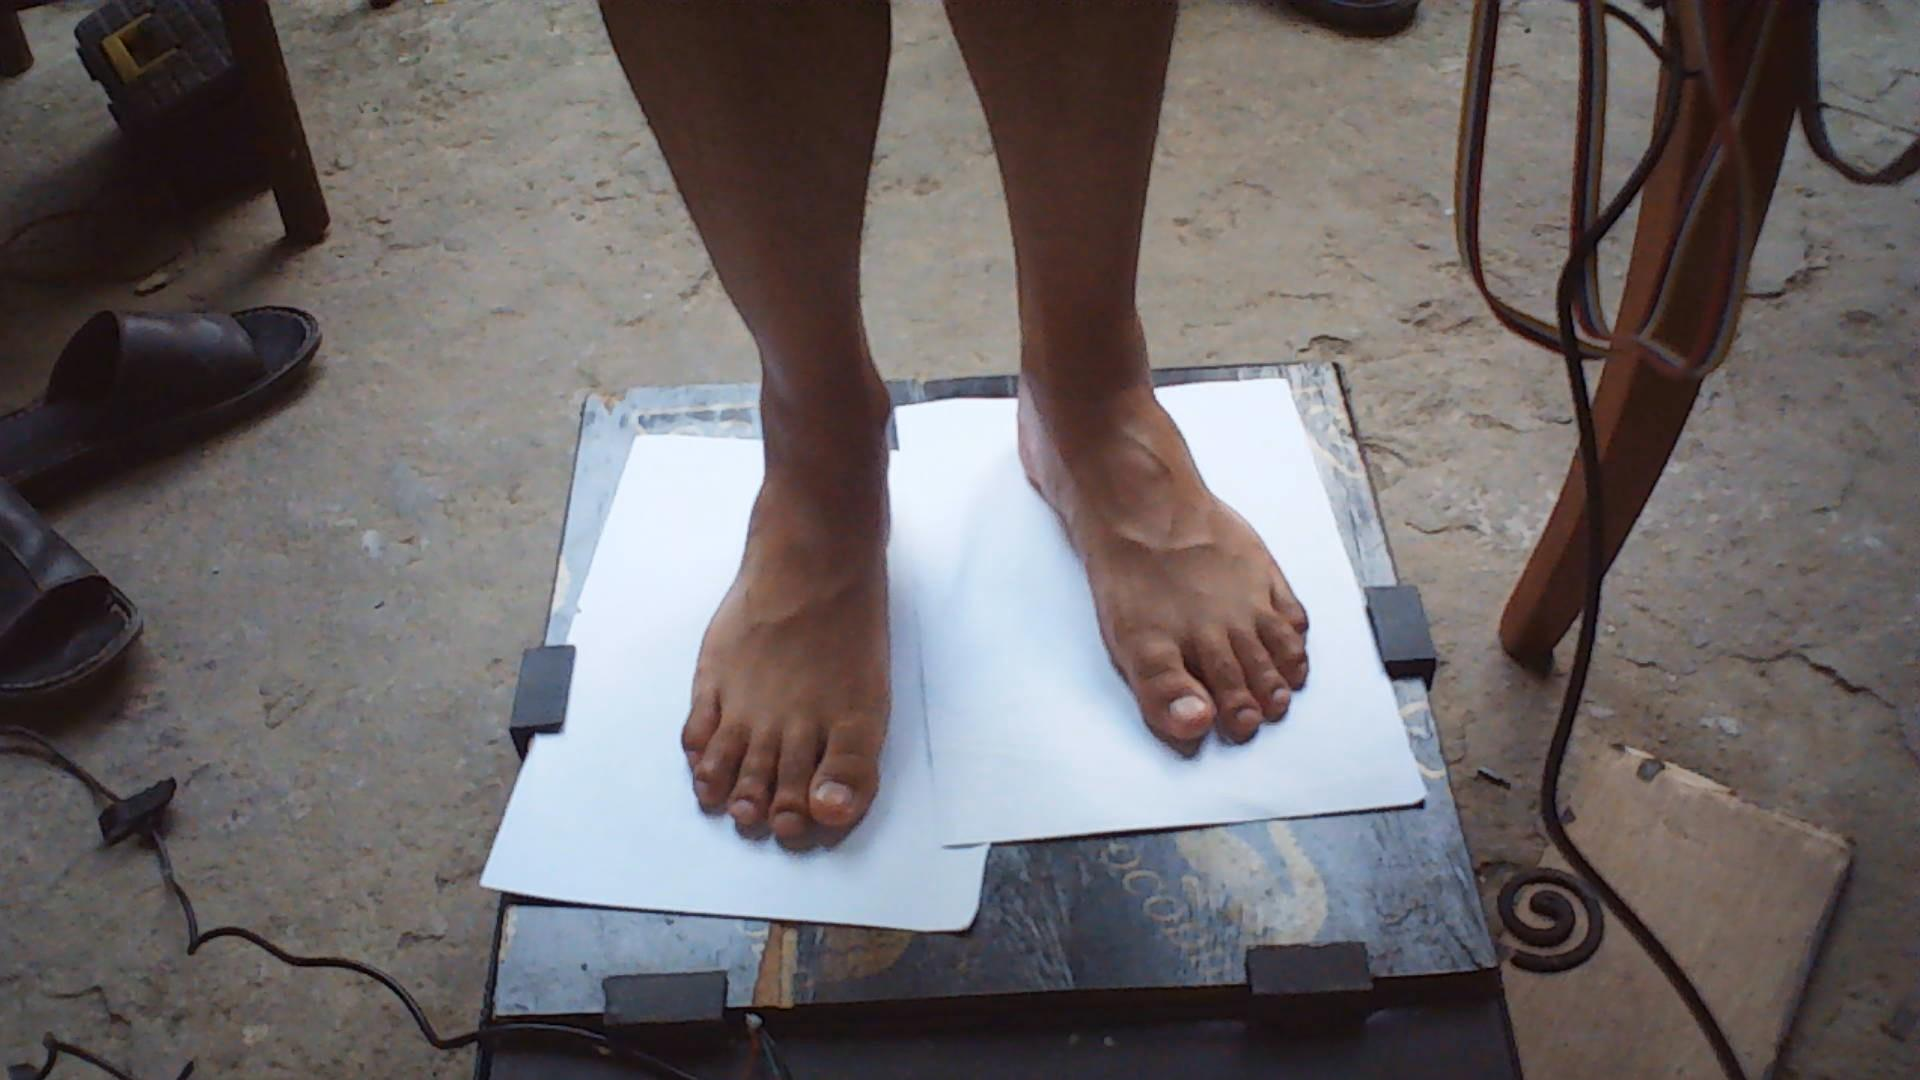Bare_feet: (998, 402, 1333, 771), (671, 425, 916, 856)
